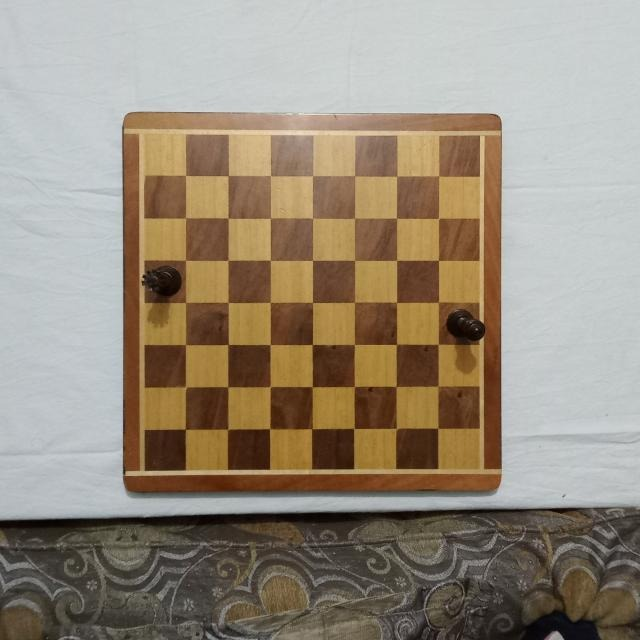black-king: (448, 307, 488, 341)
black-queen: (140, 264, 183, 297)
